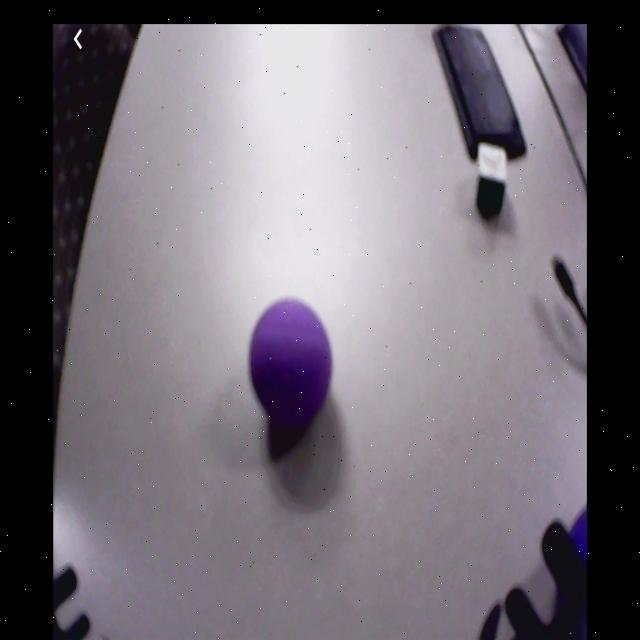ball: (251, 299, 332, 420), (558, 513, 590, 629)
